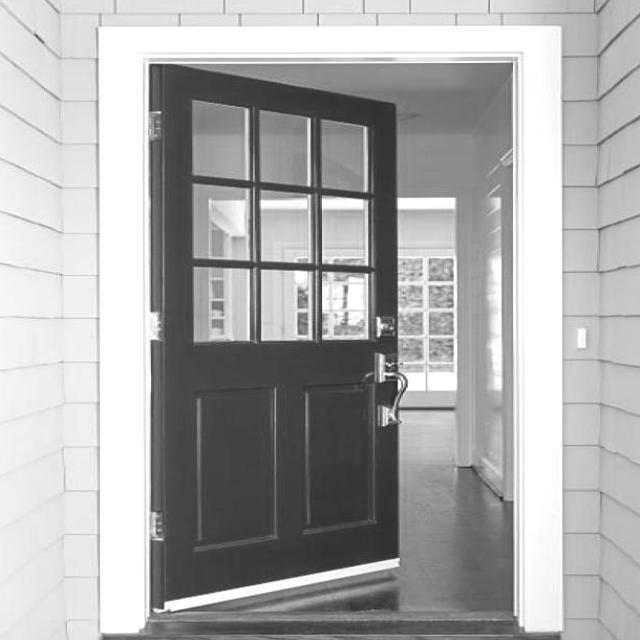door: (147, 62, 403, 611)
